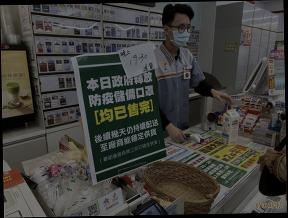with_mask: (168, 21, 193, 48)
